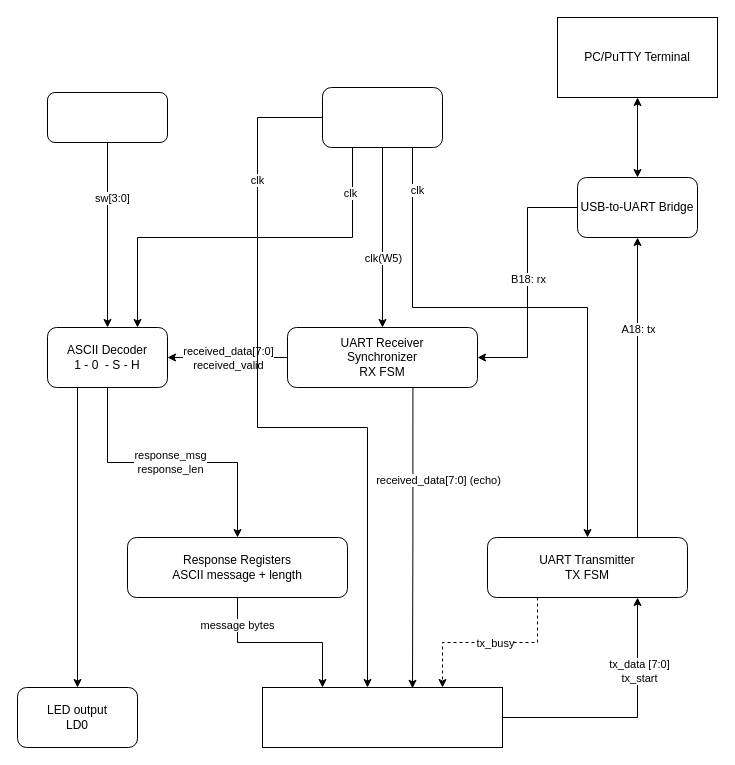
Image size: 735x765. Some labels were removed from this diagram. The centre of each missing label's shape, as x and y in pixels:
100 MHz Oscillator: pixel 382 117
Response Control FSM Echo - Send - Wait: pixel 382 717
Switches SW3-SW0: pixel 107 117
